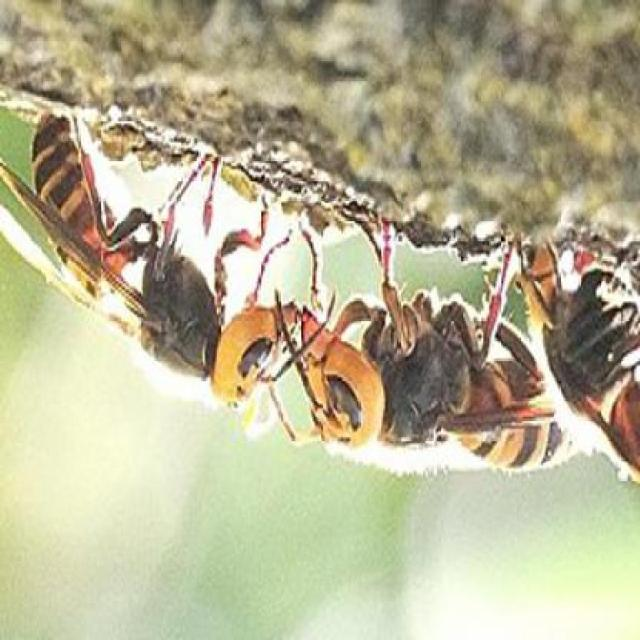Wasp: (0, 98, 293, 425), (309, 197, 588, 485)
